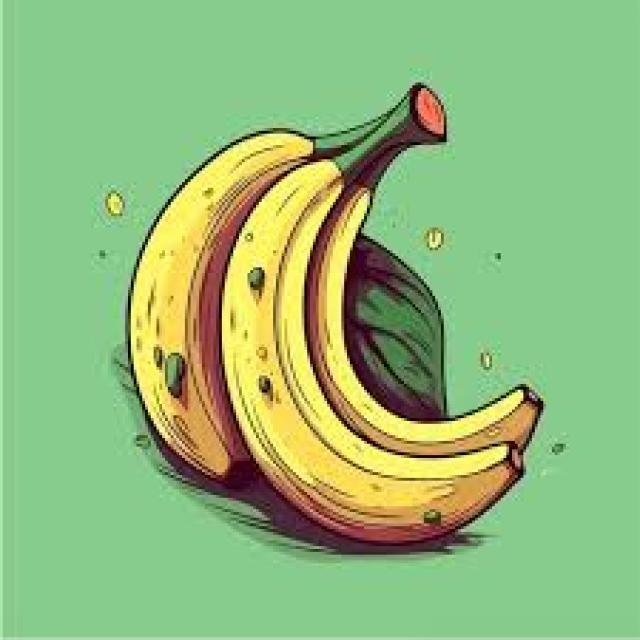Banana: (124, 89, 545, 547)
